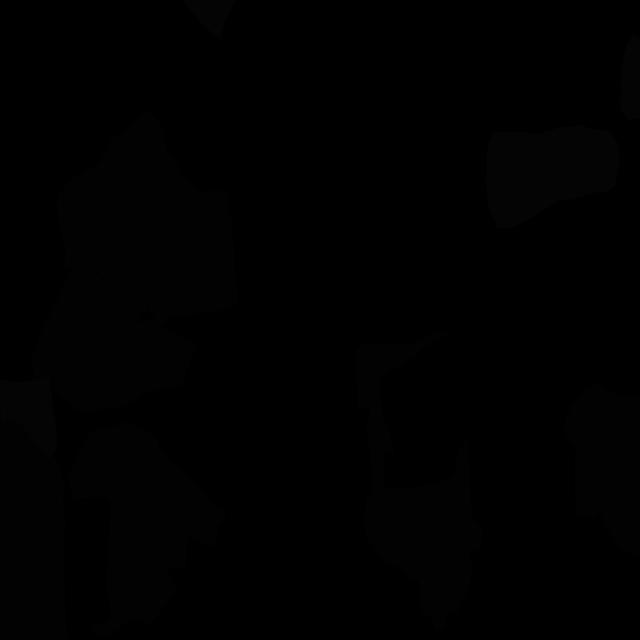cardboard: (68, 420, 225, 639), (56, 112, 200, 314), (30, 262, 197, 415), (364, 441, 483, 630), (354, 330, 447, 493), (0, 419, 68, 640), (563, 382, 640, 563), (141, 189, 238, 326)
soft_plastic: (486, 124, 619, 228), (0, 376, 57, 458), (182, 0, 235, 38), (620, 35, 640, 120)
